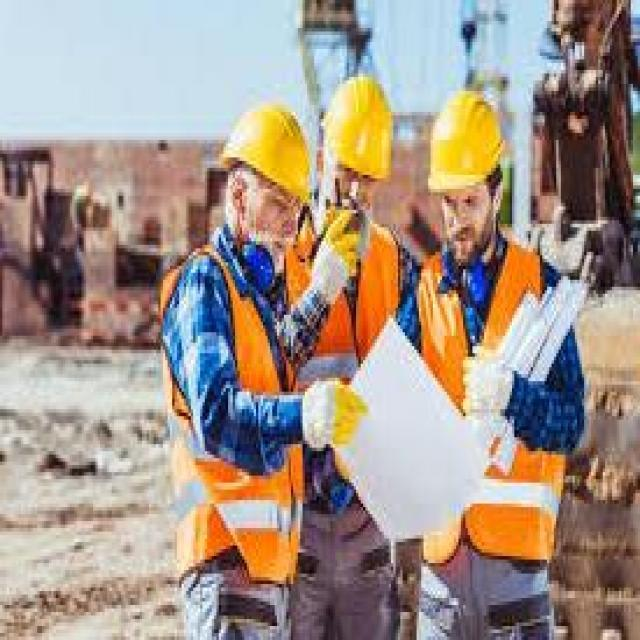reflective_jacket: (153, 231, 309, 591), (414, 241, 572, 573)
safety_helmet: (216, 94, 316, 213), (318, 66, 402, 192), (423, 83, 509, 203)
